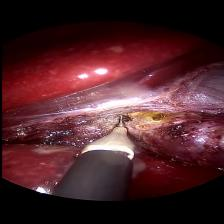Hook: (78, 113, 137, 160)
